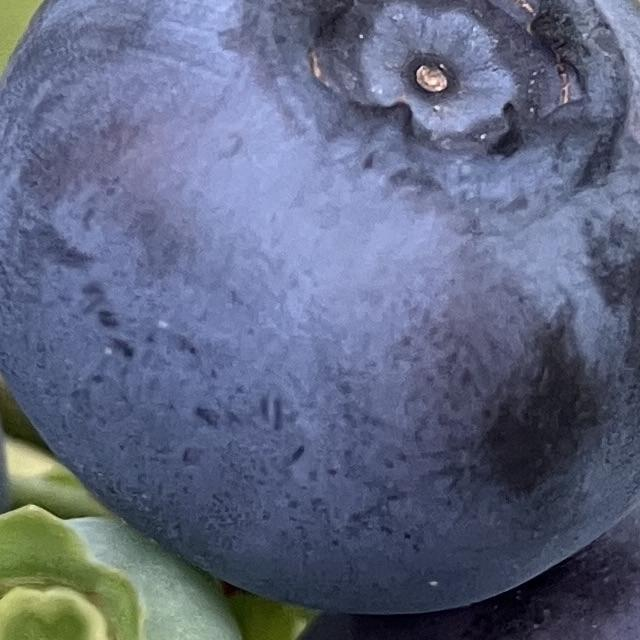Blueberries: (0, 0, 640, 632), (0, 496, 256, 640)
